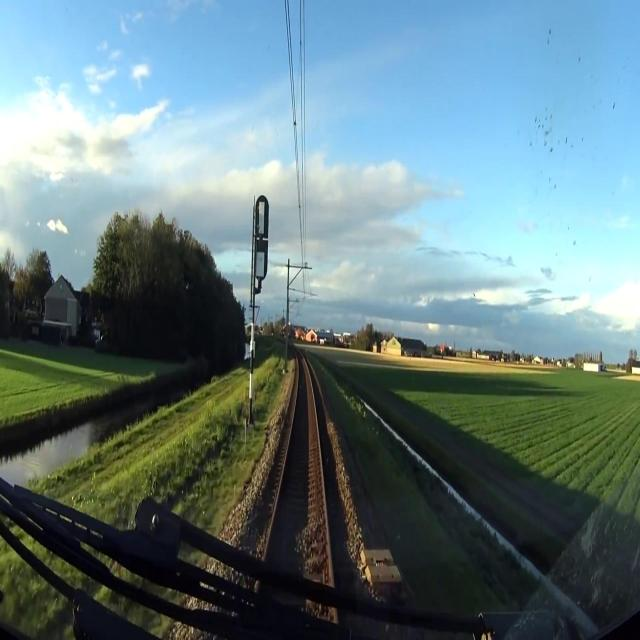rail-track: (267, 353, 330, 583)
